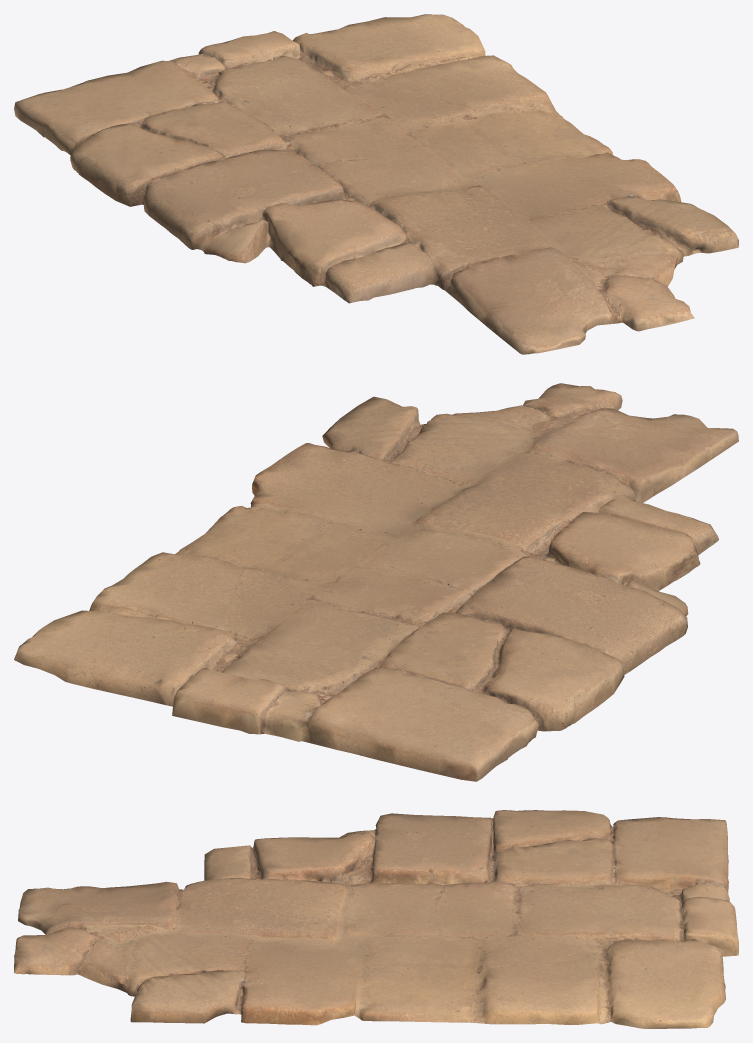
The model's file is StoneFloor.dae.
The picture shows the model from 3 angles, top to bottom: view 1: azimuth 30°, elevation 25°; view 2: azimuth 150°, elevation 25°; view 3: azimuth 270°, elevation 25°; orthographic projection. The views are drawn at different scales.
Visible parts, largest first — view 1: Aset_stone_pavestone_M_tkkrcayfa_LOD0; view 2: Aset_stone_pavestone_M_tkkrcayfa_LOD0; view 3: Aset_stone_pavestone_M_tkkrcayfa_LOD0.
Part boxes in pixels (x1,y1,x2,y2): Aset_stone_pavestone_M_tkkrcayfa_LOD0: [14, 14, 738, 354]; Aset_stone_pavestone_M_tkkrcayfa_LOD0: [14, 383, 738, 781]; Aset_stone_pavestone_M_tkkrcayfa_LOD0: [14, 810, 738, 1028].
Size of the model in its own units: 1.06 by 1.61 by 0.0824.
1 material, 1 textured.
